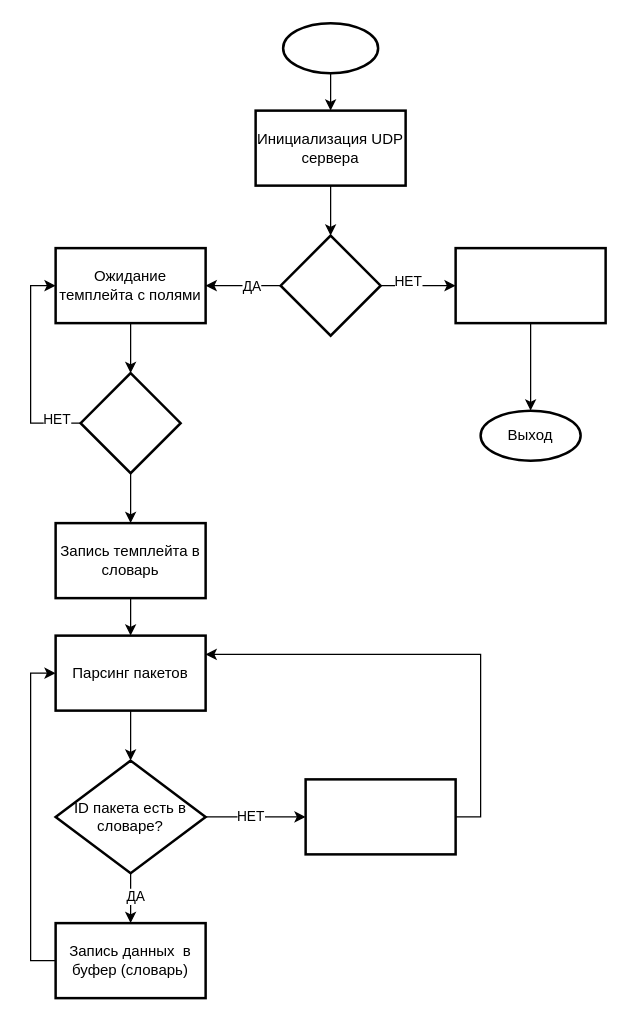
Some shapes in this 629 by 1020 pixel diagram are drawn without their labels. The centre of each missing label's shape, as x and y in pixels:
"Отбрасываем пакет сообщение в лог" goes at point 380,816.
"Пришел темплейт?" goes at point 130,422.
"Сервер поднялся?" goes at point 330,285.
"Сообщение в лог об ошибке" goes at point 530,285.
